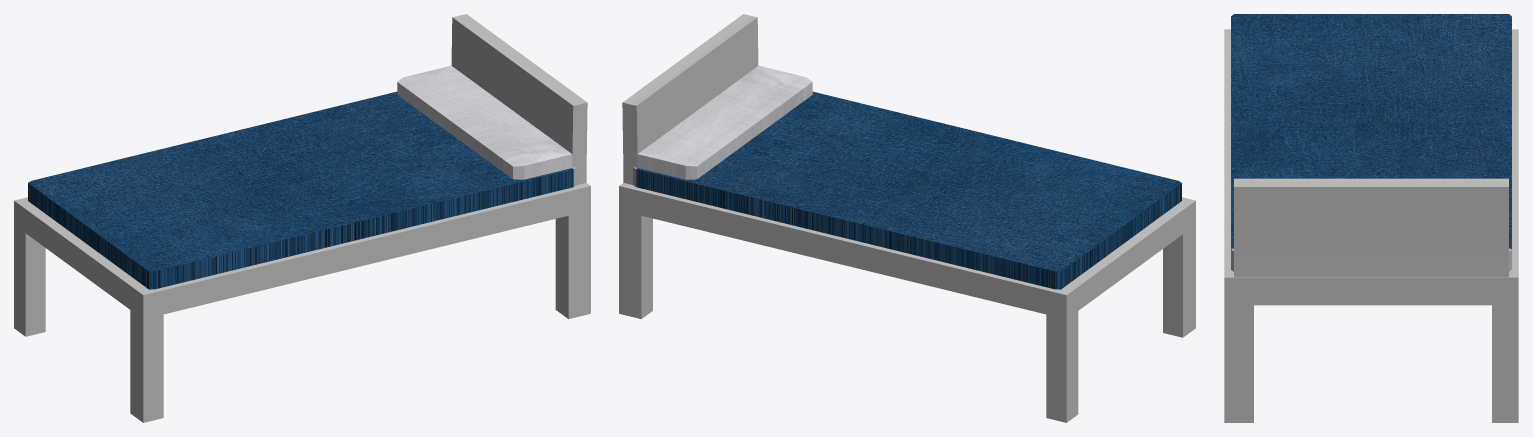
The model's file is Krovatka.fbx.
3 views of the same model, side by side, from view 1: azimuth 30°, elevation 25°; view 2: azimuth 150°, elevation 25°; view 3: azimuth 270°, elevation 25° (orthographic). The views are drawn at different scales.
Parts seen in each view (by area): view 1: Cube; view 2: Cube; view 3: Cube.
Part boxes in pixels (x1,y1,x2,y2): Cube: (14, 14, 590, 422); Cube: (619, 14, 1195, 422); Cube: (1224, 14, 1518, 422).
Bounding box in the file's own units: 366 × 163 × 183.
